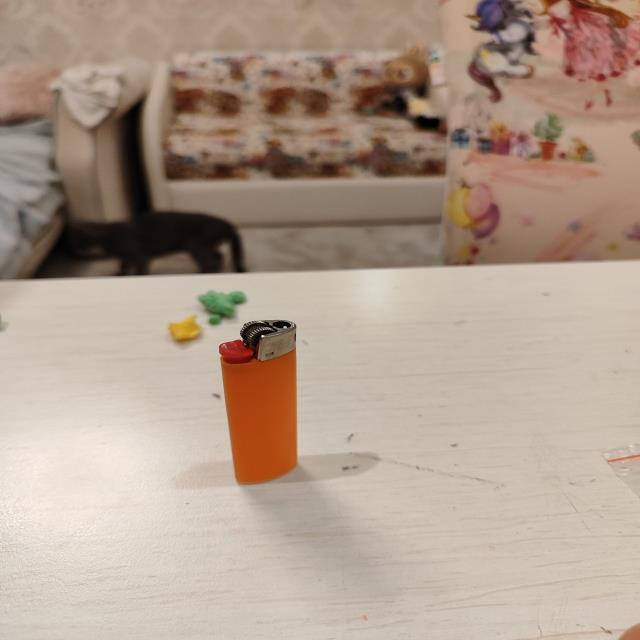lighter: (220, 320, 297, 484)
